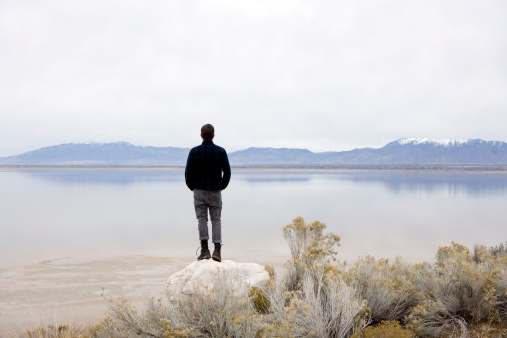em pe: (187, 125, 229, 264)
